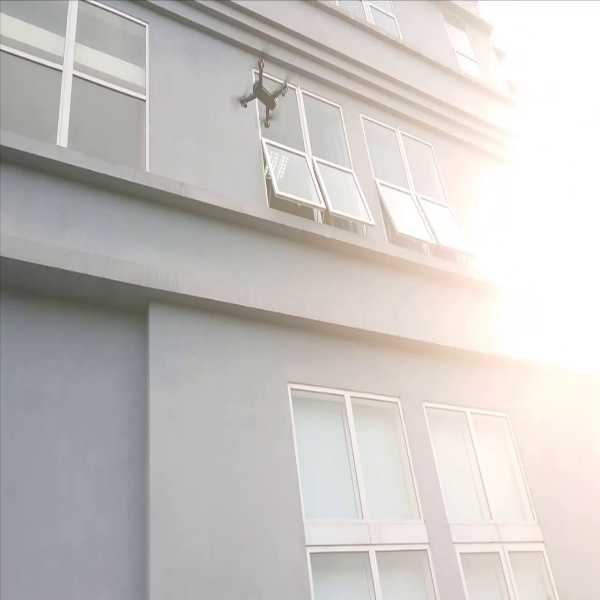drone: (226, 48, 300, 132)
